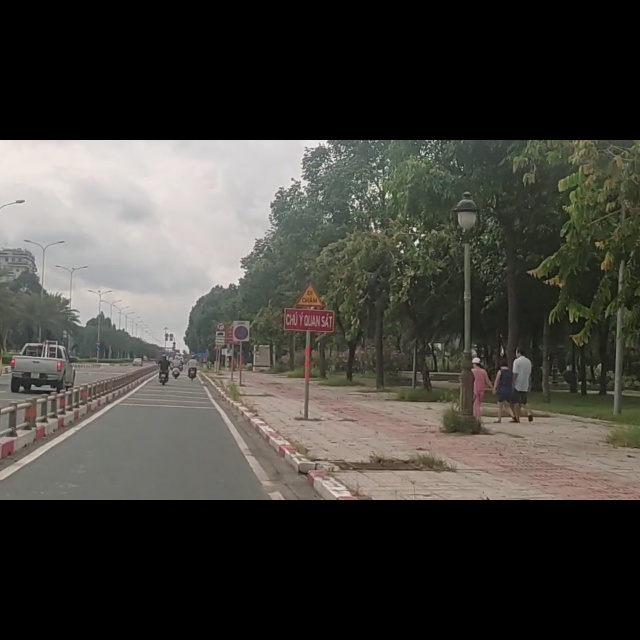bien_nguy_hiem: (297, 252, 324, 297), (231, 319, 251, 360), (215, 338, 226, 366), (215, 322, 225, 339)
